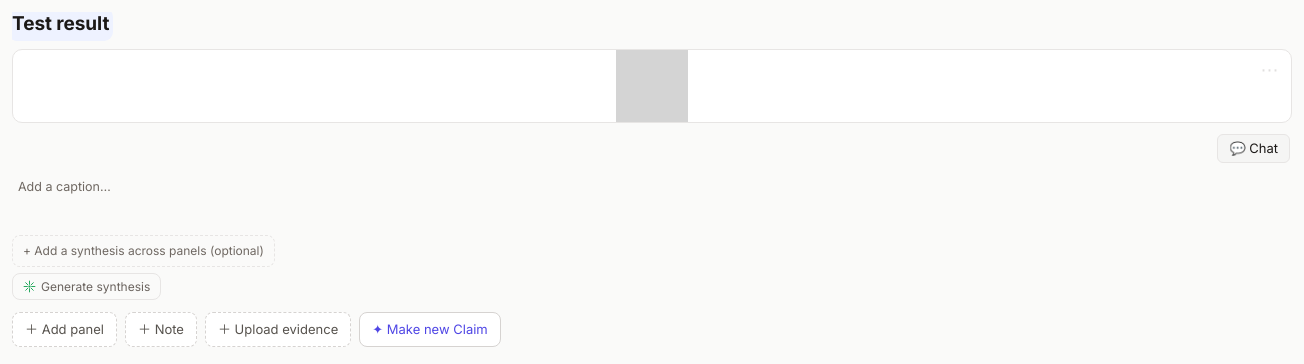
Test case: ResultView.MemberPanel (redesigned) › ⋯ menu HIDES "Remove this version" on a single-entry chain
Click the button with class "rv-panel__more-btn" at (1270, 70), box [1256,57,1284,83]
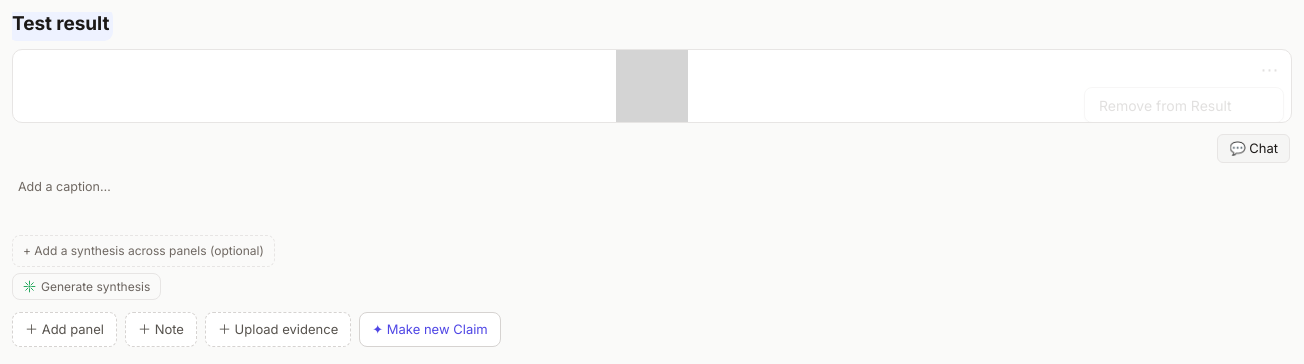
Result: the menu item "Remove from Result" is shown at [1089,92,1279,118]
